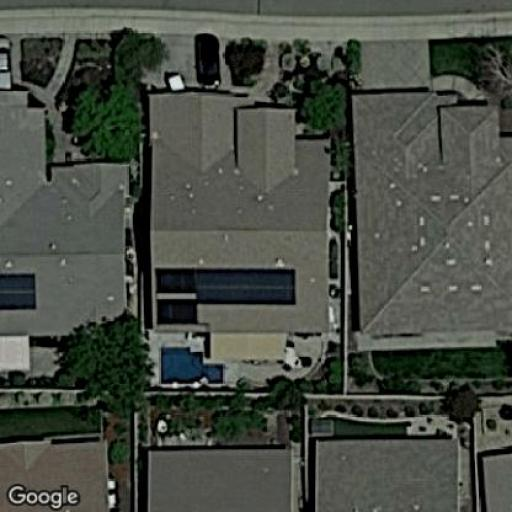solar-panel: (155, 266, 299, 328), (1, 269, 40, 314)
